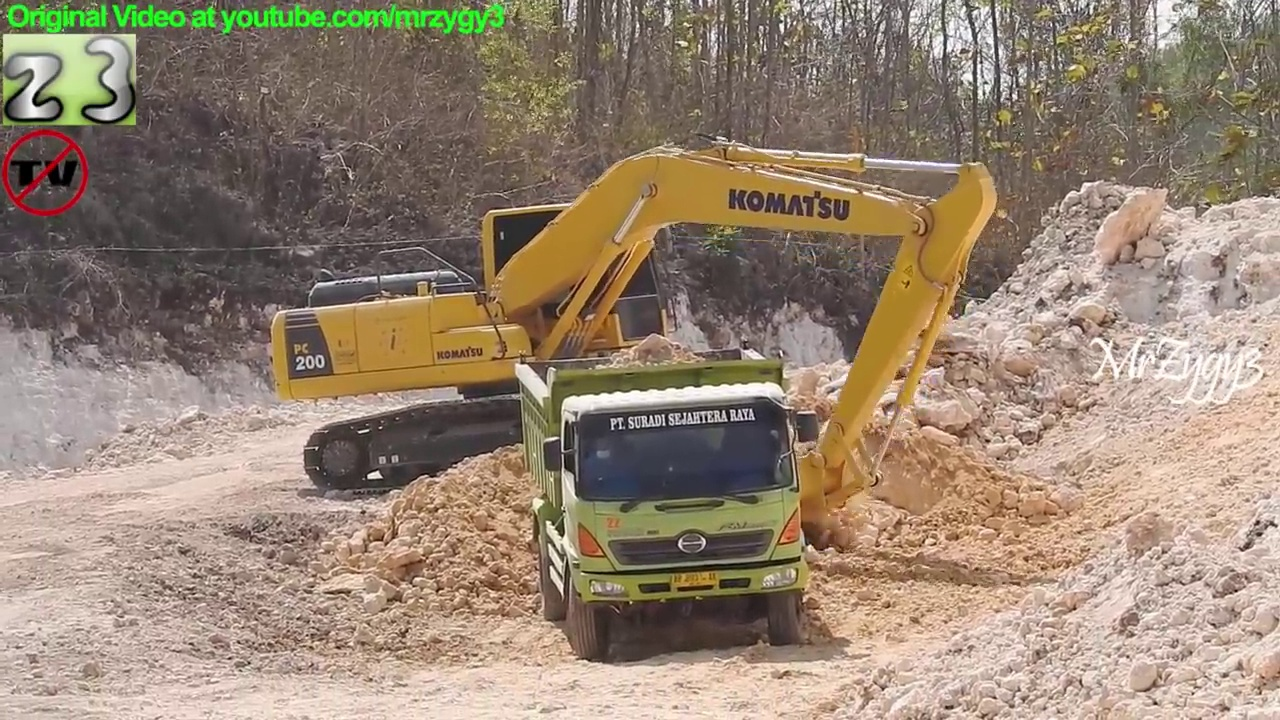excavator: (264, 131, 1003, 545)
truck: (510, 333, 823, 665)
